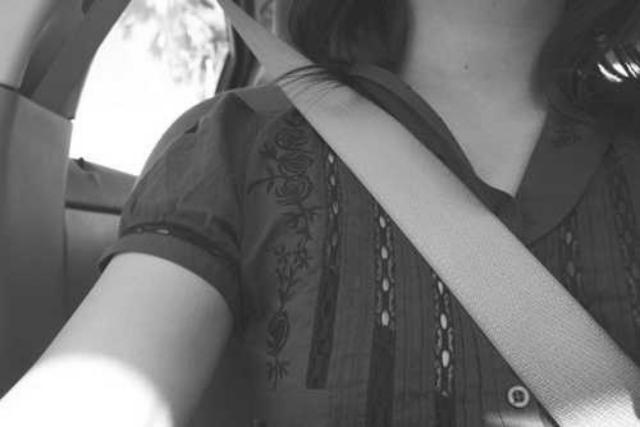Seatbelt: (206, 0, 639, 427)
